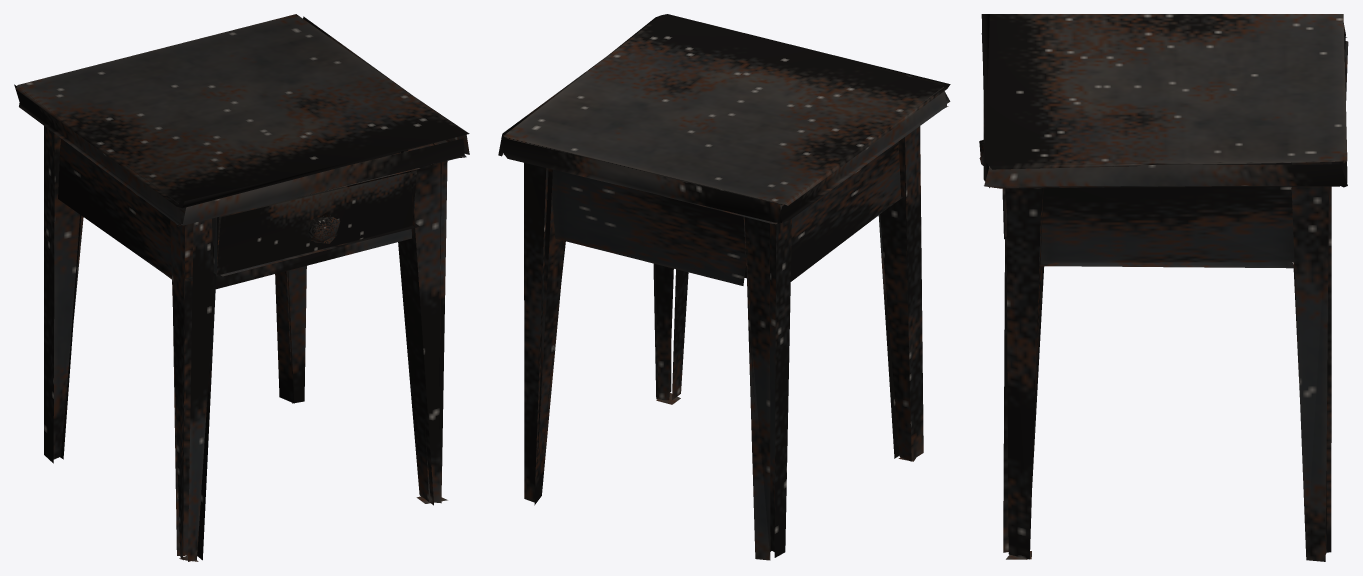
Rendered from Nightstand_Burned.fbx.
3 renders of one model, left to right at view 1: azimuth 30°, elevation 25°; view 2: azimuth 150°, elevation 25°; view 3: azimuth 270°, elevation 25°, orthographic. The views are drawn at different scales.
Visible parts, largest first — view 1: тумбочка 313; view 2: тумбочка 313; view 3: тумбочка 313.
Boxes of the visible parts, x1,y1,x2,y2 form: тумбочка 313: (14, 14, 469, 561); тумбочка 313: (498, 14, 950, 560); тумбочка 313: (979, 14, 1348, 561).
Bounding box in the file's own units: 0.5092 × 0.6193 × 0.5102.
1 material, 1 textured.
